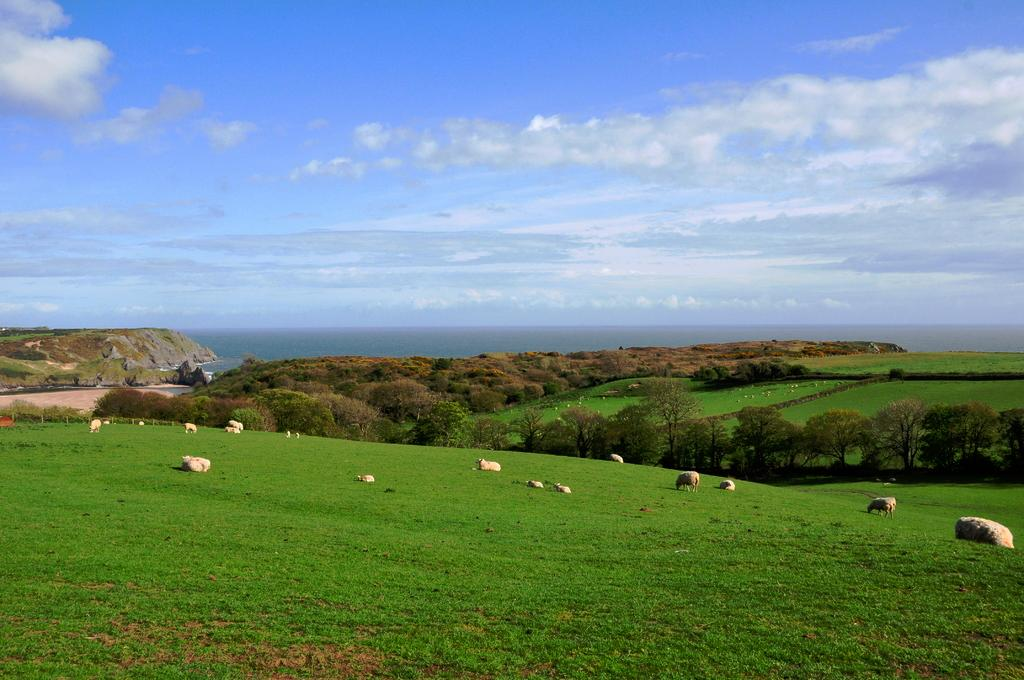Sheep: (954, 514, 1014, 550), (179, 455, 214, 475), (675, 470, 701, 492), (866, 497, 892, 518), (473, 458, 506, 474), (551, 478, 575, 496), (87, 418, 106, 437), (717, 479, 738, 493), (183, 421, 200, 436), (525, 479, 546, 491), (609, 453, 625, 465)
